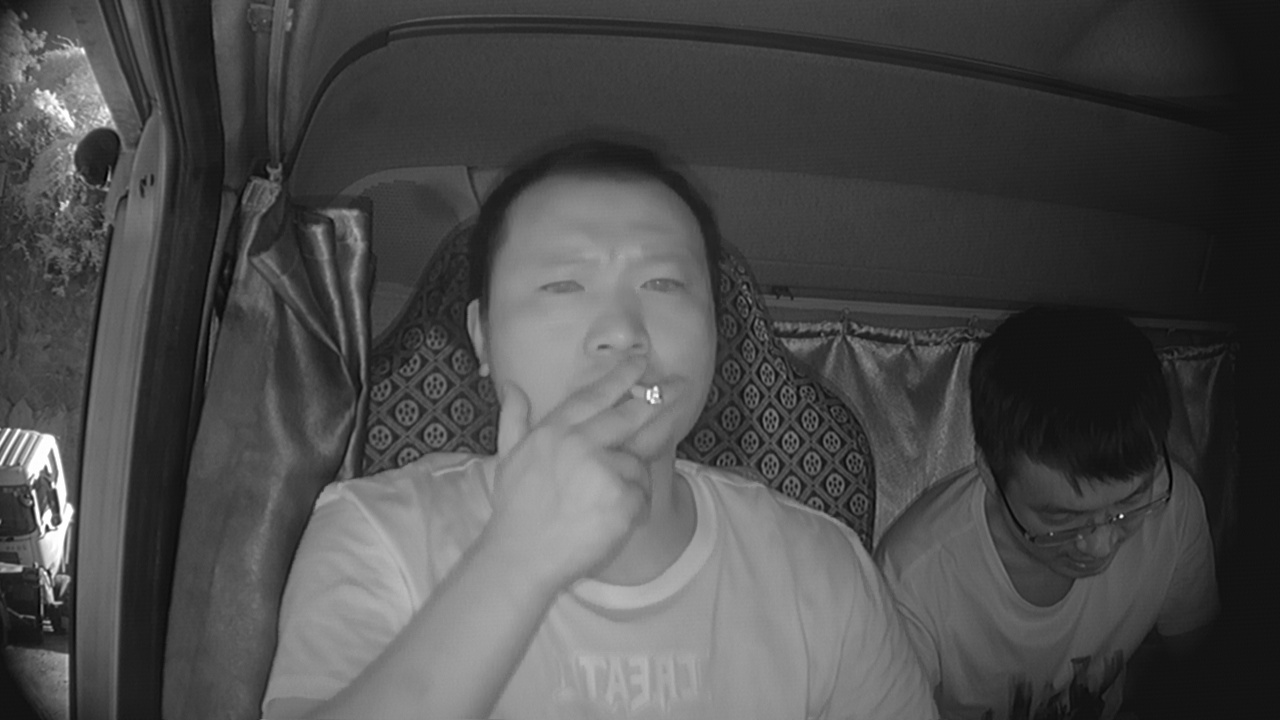hand: (539, 359, 693, 537)
